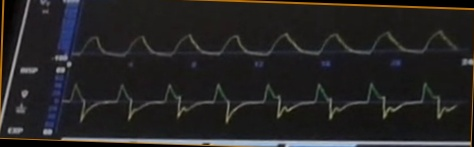Premature_cycling Flow: (66, 75, 457, 133)
Premature_cycling Volume: (76, 15, 462, 59)
